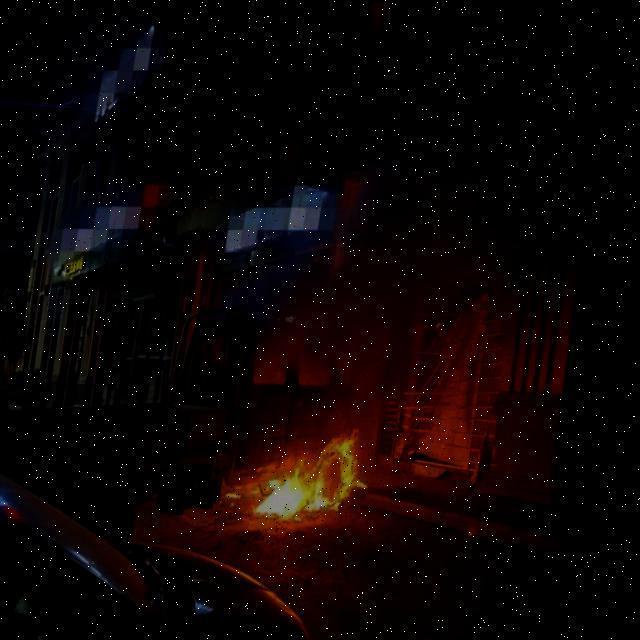Fire: (268, 424, 384, 520)
